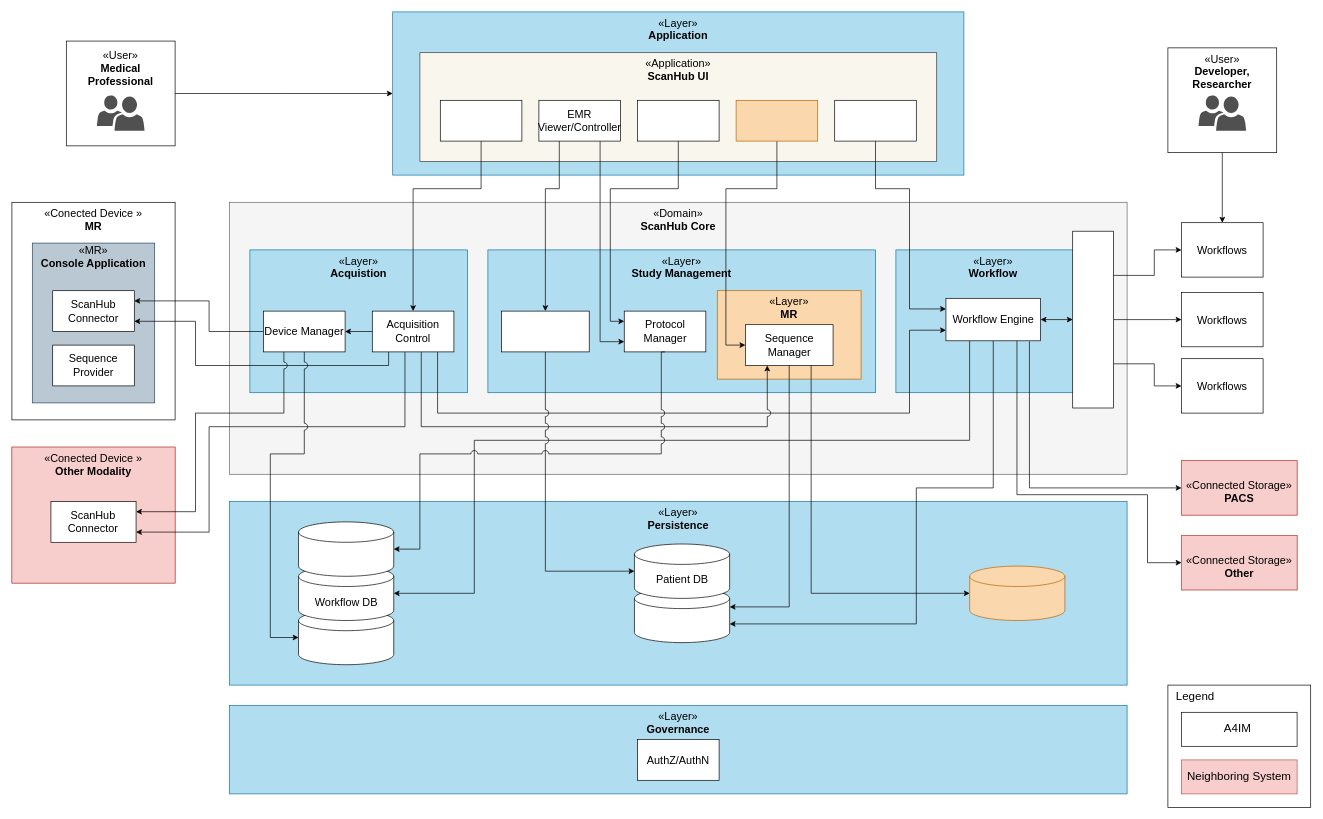
The diagram is 1323 pixels wide and 819 high, and some of its shapes have lost their labels. Each missing label, with the centre of its shape:
"Acquisition Controller" belongs at (481,120).
"Data Lake" belongs at (682,615).
"Device DB" belongs at (346,637).
"Dicom Viewer" belongs at (678,120).
"MR Sequence Viewer/Controller" belongs at (776,120).
"Patient Manager" belongs at (545,331).
"Protocol DB" belongs at (346,548).
"Sequence Database" belongs at (1017,592).
"Workflow Orchestration" belongs at (1093,319).
"Workflow Viewer/Controller" belongs at (875,120).
